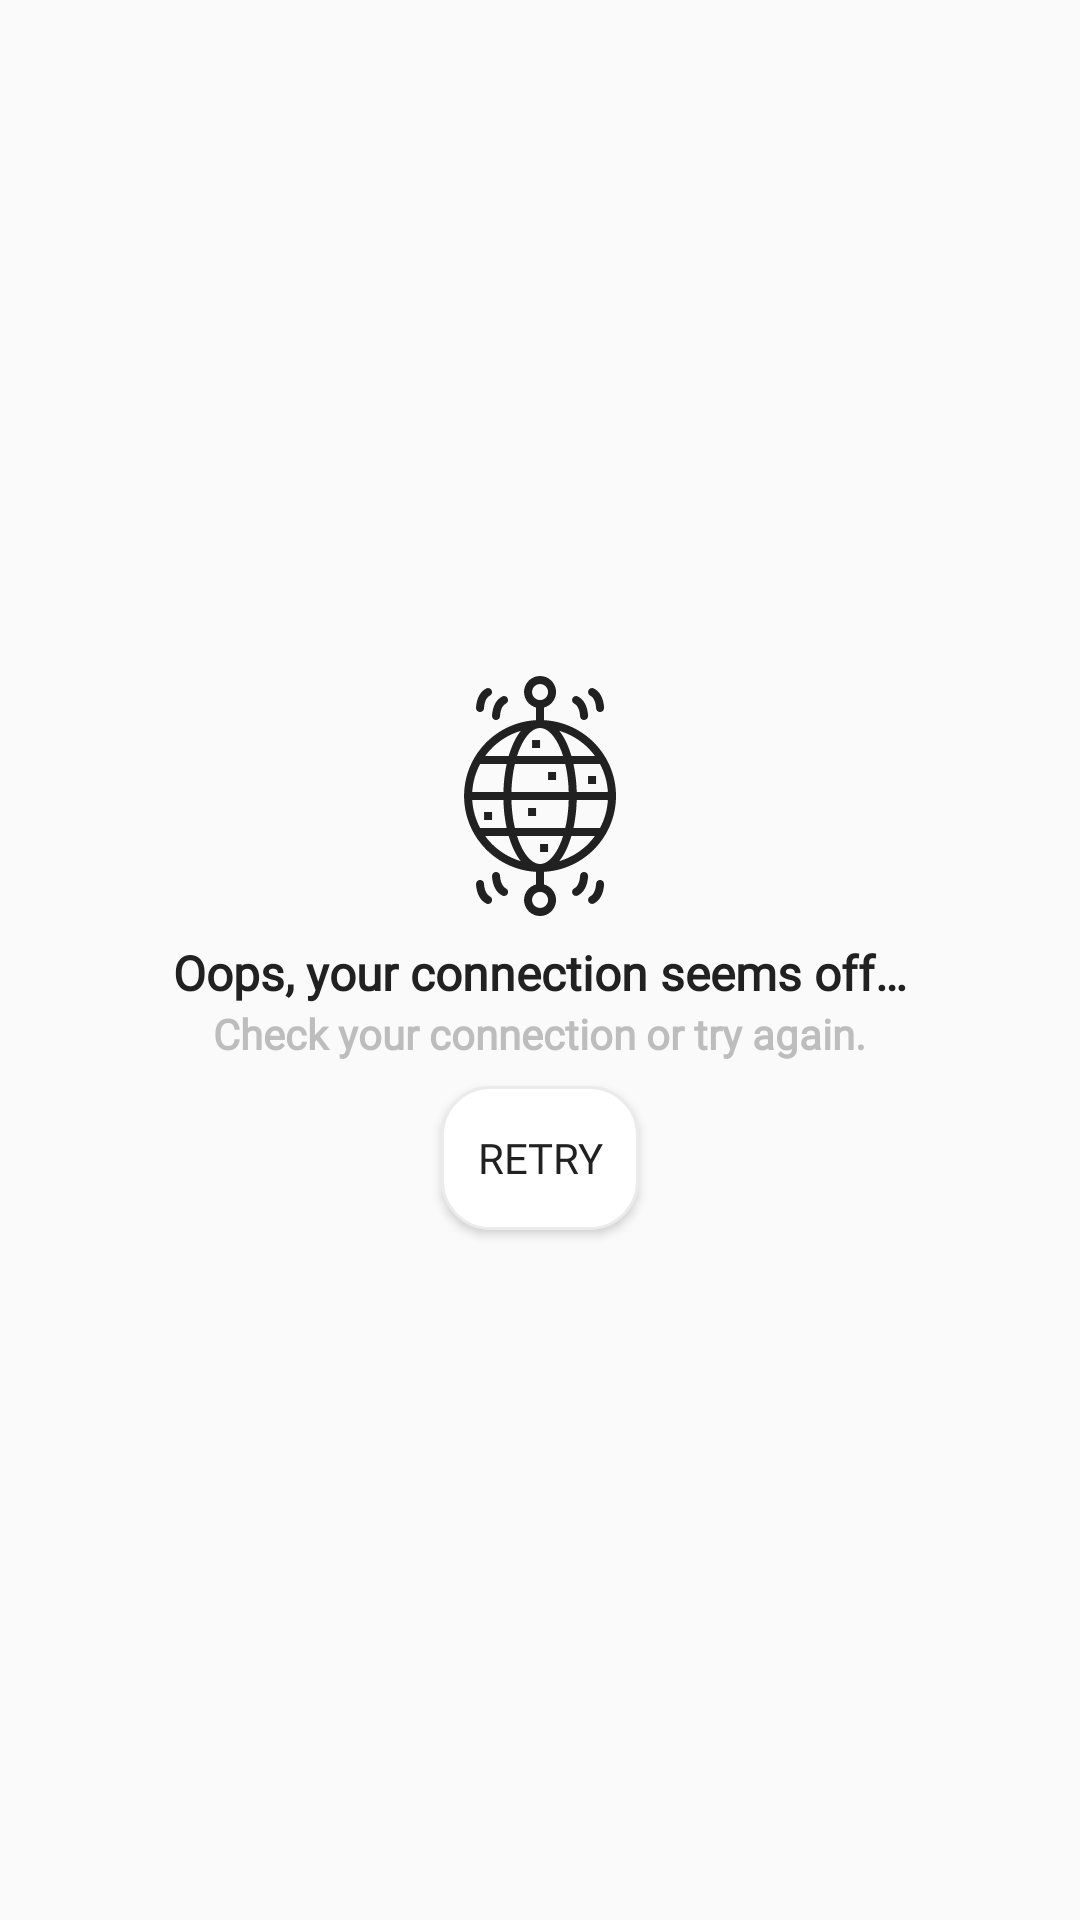

Named icons in this screenshot (1080px×1920px) and their centers, (x,y):
error network: (540,796)
